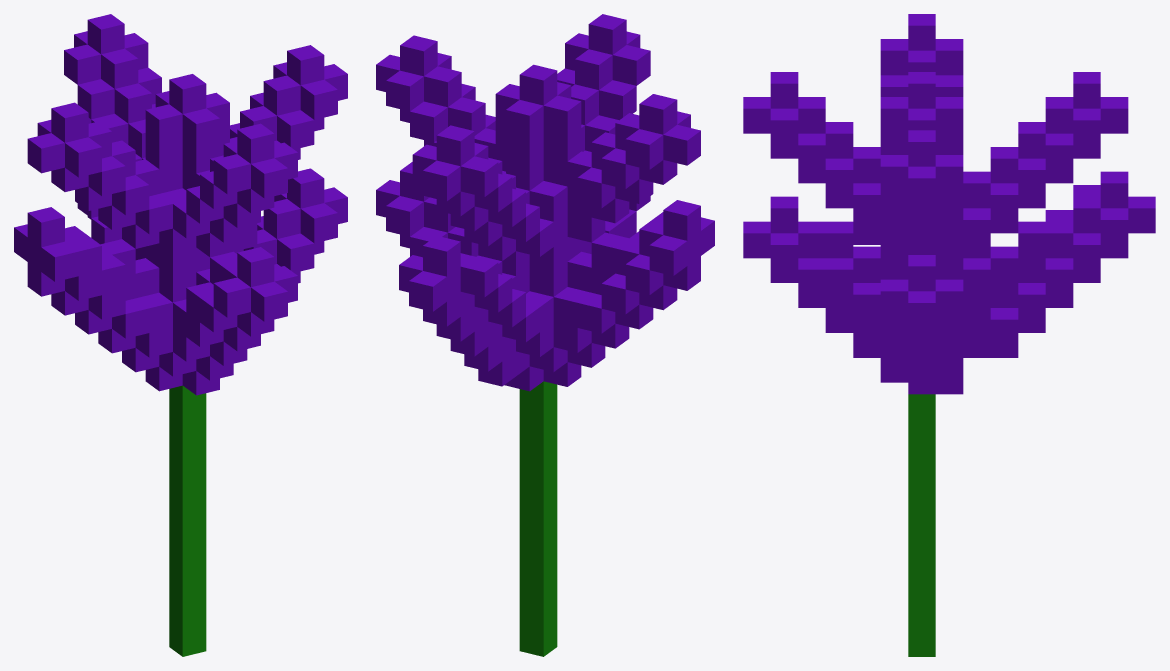
The model's file is perple flower.gltf.
3 renders of one model, left to right at view 1: azimuth 30°, elevation 25°; view 2: azimuth 150°, elevation 25°; view 3: azimuth 270°, elevation 25°, orthographic.
Visible parts, largest first — view 1: Layer.1; view 2: Layer.1; view 3: Layer.1.
Part boxes in pixels (x1=…): Layer.1: x1=14, y1=14, x2=347, y2=656; Layer.1: x1=376, y1=14, x2=714, y2=656; Layer.1: x1=743, y1=14, x2=1155, y2=656.
Size of the model in its own units: 13 by 23 by 15.
1 material, 1 textured.
